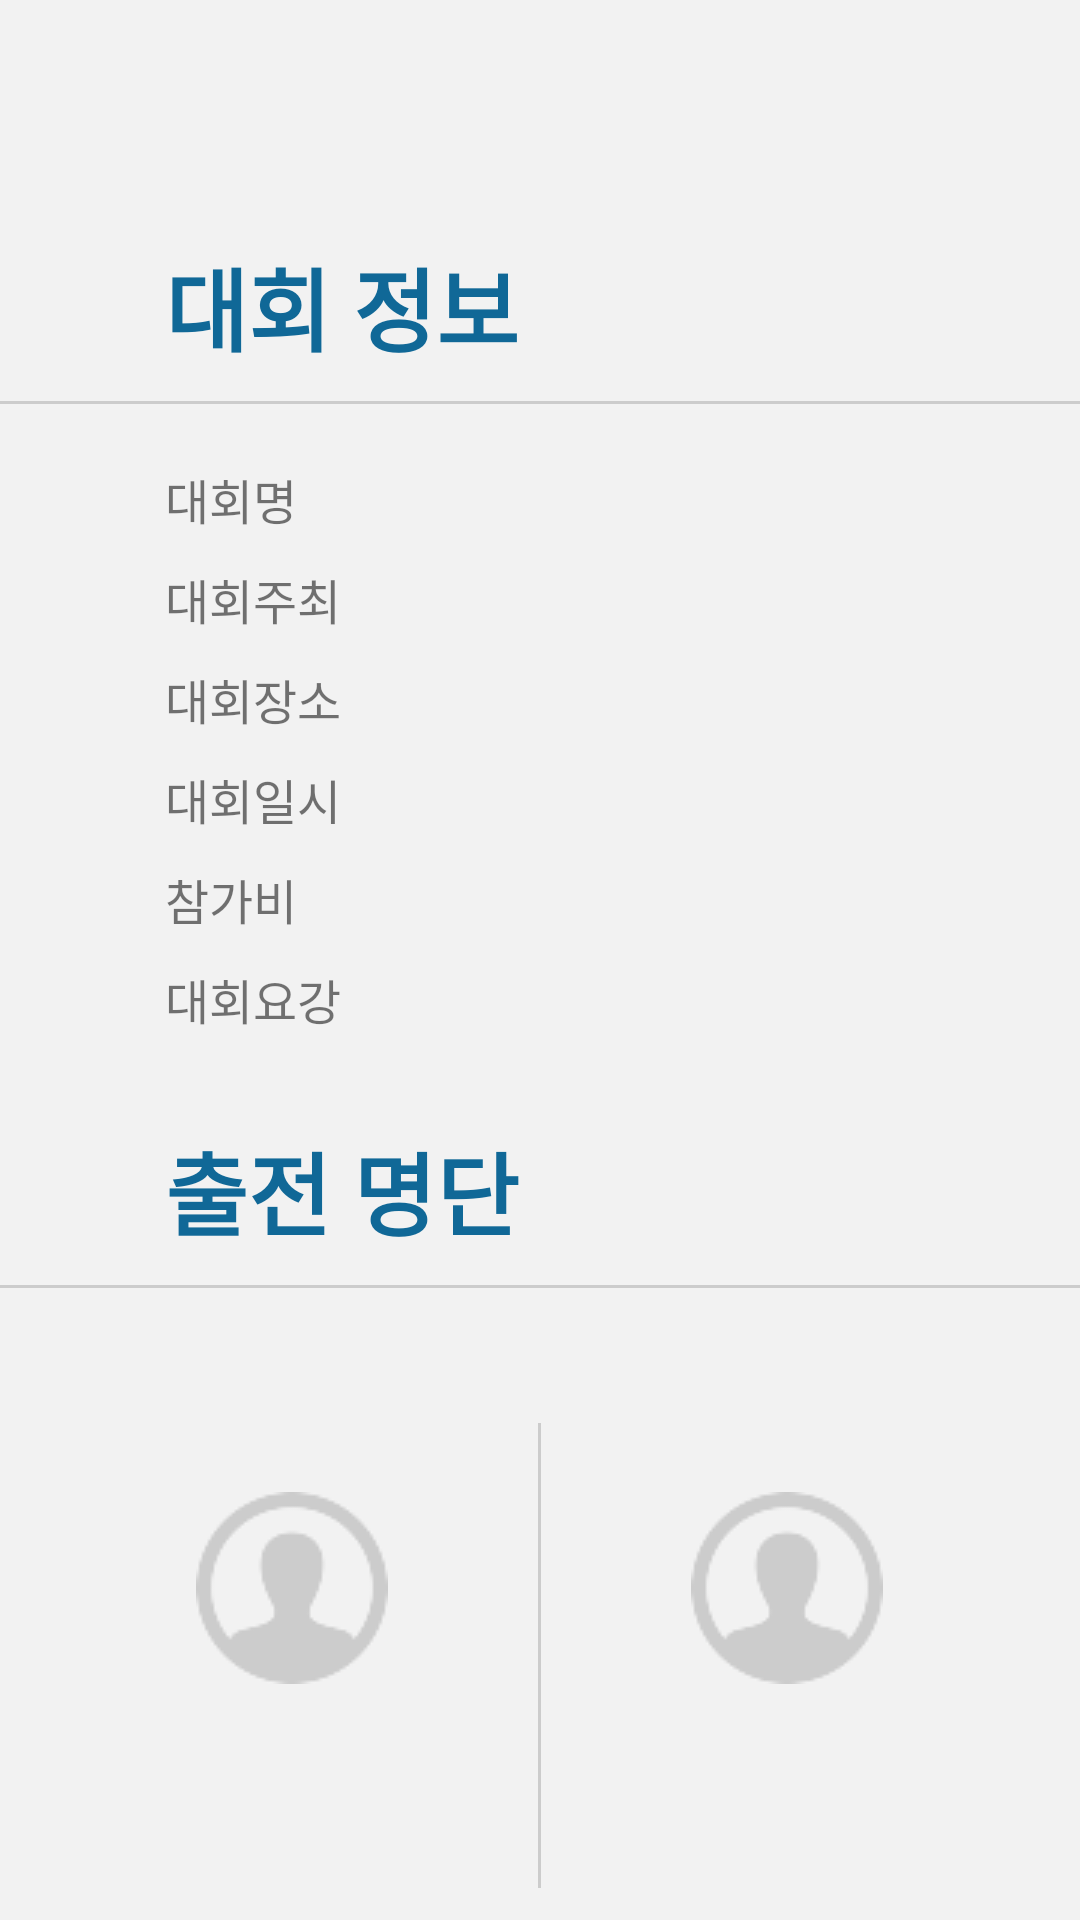

Icon bounding boxes for this 1080x1920 phone screenshot, format (x1, y1, x2, y2):
person: (196, 1492, 388, 1684), (691, 1492, 883, 1684)
